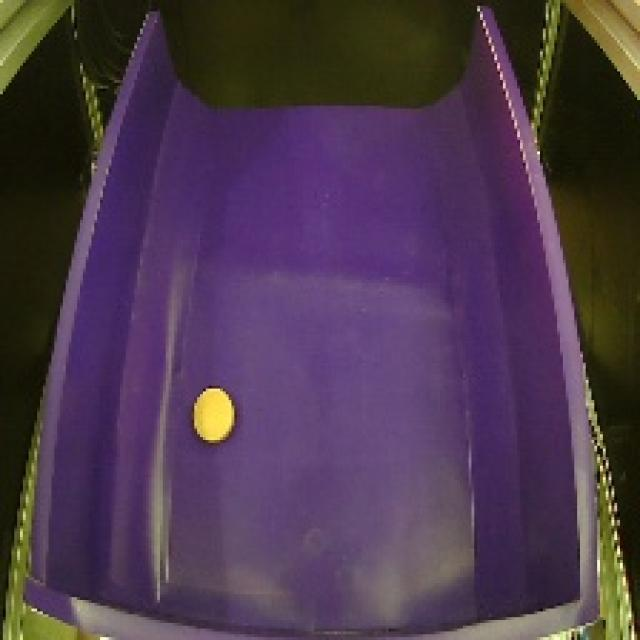small: (188, 382, 242, 446)
